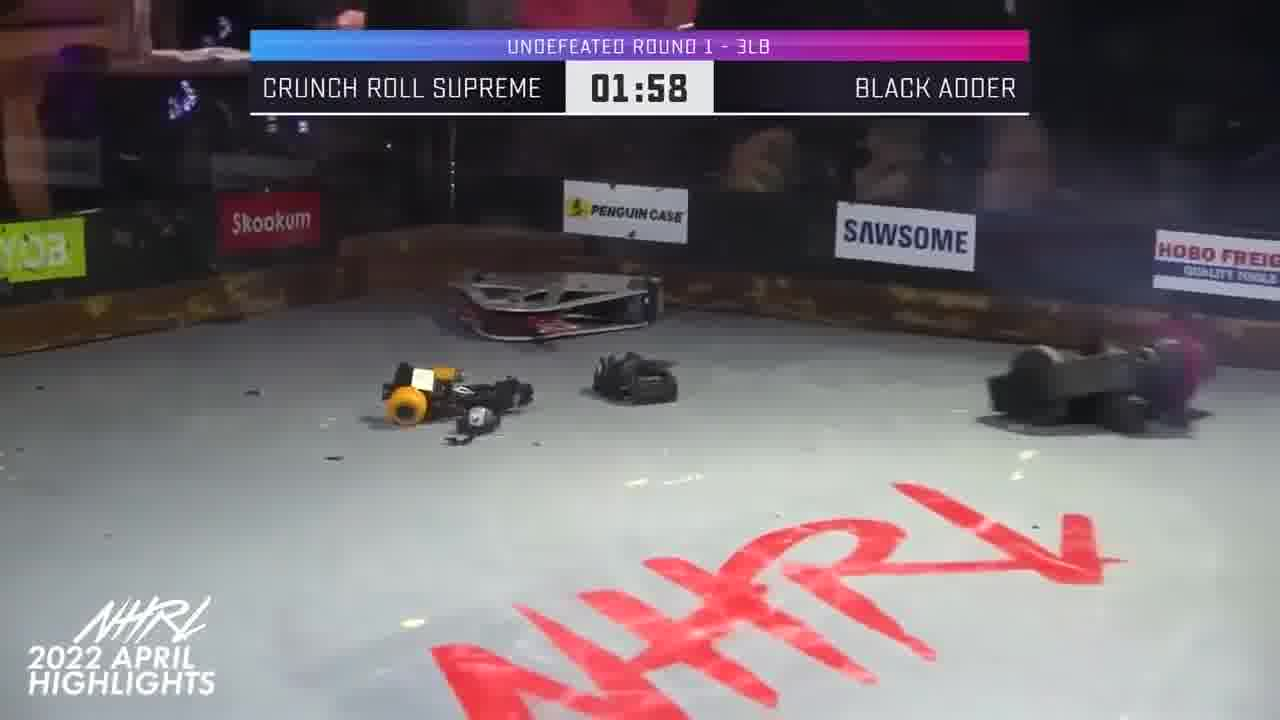combatbot: (979, 330, 1216, 439), (449, 268, 663, 344)
debris: (374, 363, 539, 448)
minibot: (588, 351, 683, 408)
